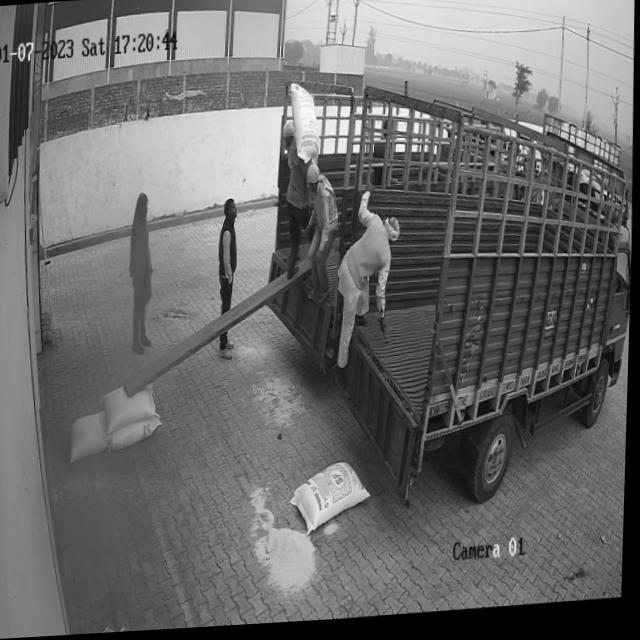sack: (292, 464, 374, 538), (101, 384, 159, 436), (288, 83, 322, 164), (70, 412, 113, 465), (111, 416, 162, 451)
